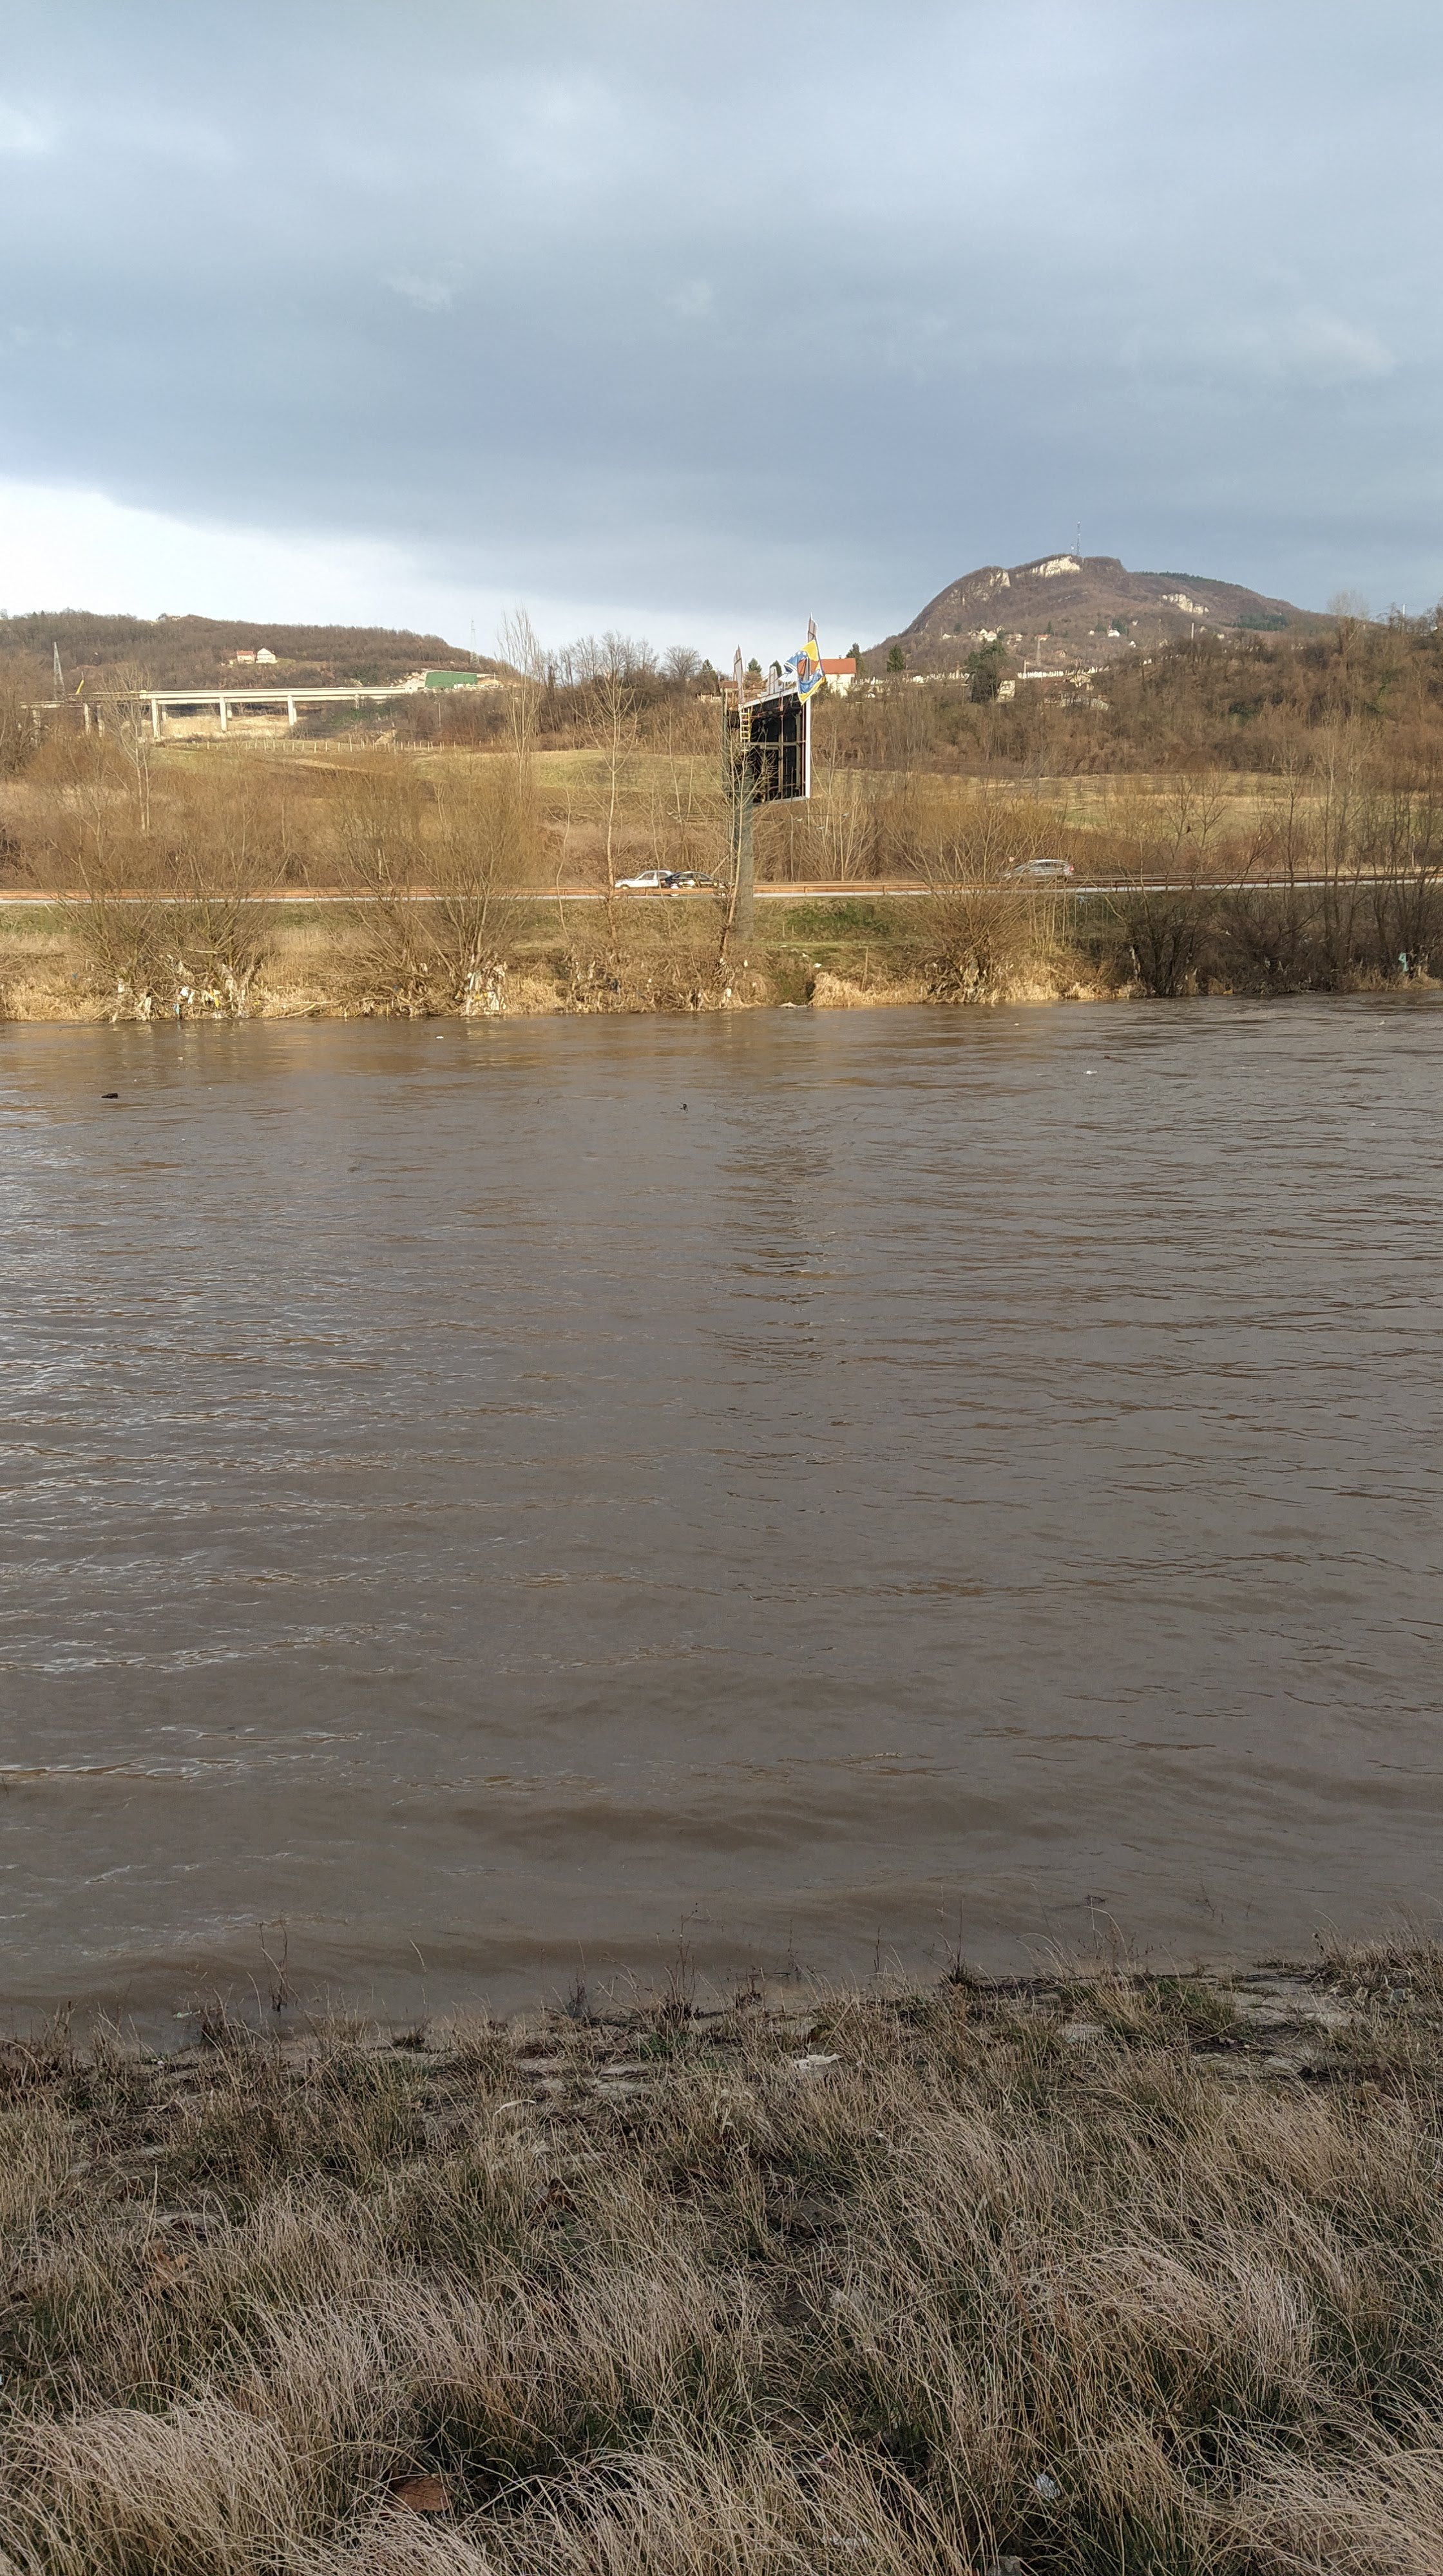Plastic Bottle: (101, 1092, 117, 1097), (1082, 1070, 1096, 1074), (436, 1035, 443, 1039), (1377, 1021, 1385, 1024), (1105, 1056, 1110, 1058)
